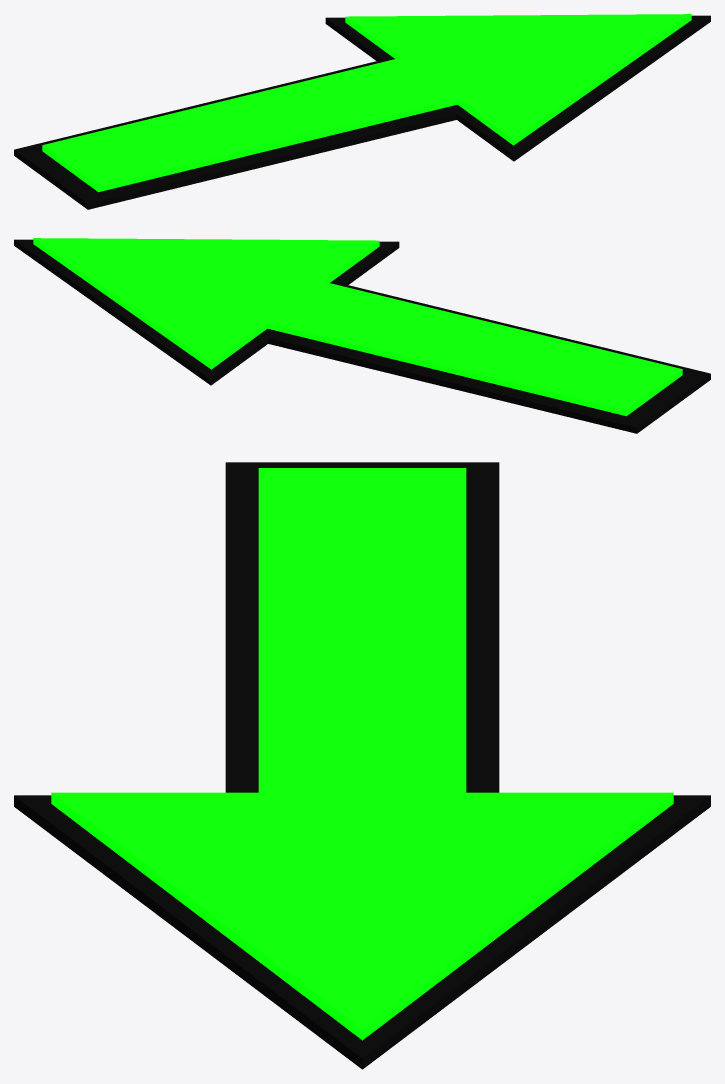
The model's file is back_direction_arrow.dae.
3 views of the same model, one above another, from view 1: azimuth 30°, elevation 25°; view 2: azimuth 150°, elevation 25°; view 3: azimuth 270°, elevation 25° (orthographic). The views are drawn at different scales.
Parts seen in each view (by area): view 1: green-node, outline-node; view 2: green-node, outline-node; view 3: green-node, outline-node.
Boxes of the visible parts, left/top/right/bottom form: green-node: left=42, top=14, right=691, bottom=192; outline-node: left=14, top=15, right=710, bottom=209; green-node: left=33, top=238, right=682, bottom=416; outline-node: left=14, top=239, right=710, bottom=433; green-node: left=51, top=468, right=673, bottom=1040; outline-node: left=14, top=462, right=710, bottom=1069.
Bounding box in the file's own units: 0.34 × 0.168 × 0.0061.
